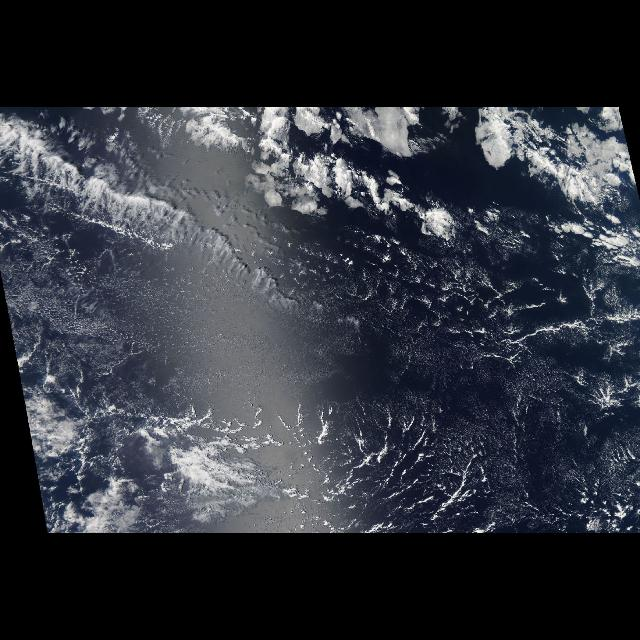Flower: (182, 108, 496, 245)
Sugar: (8, 250, 590, 438)
